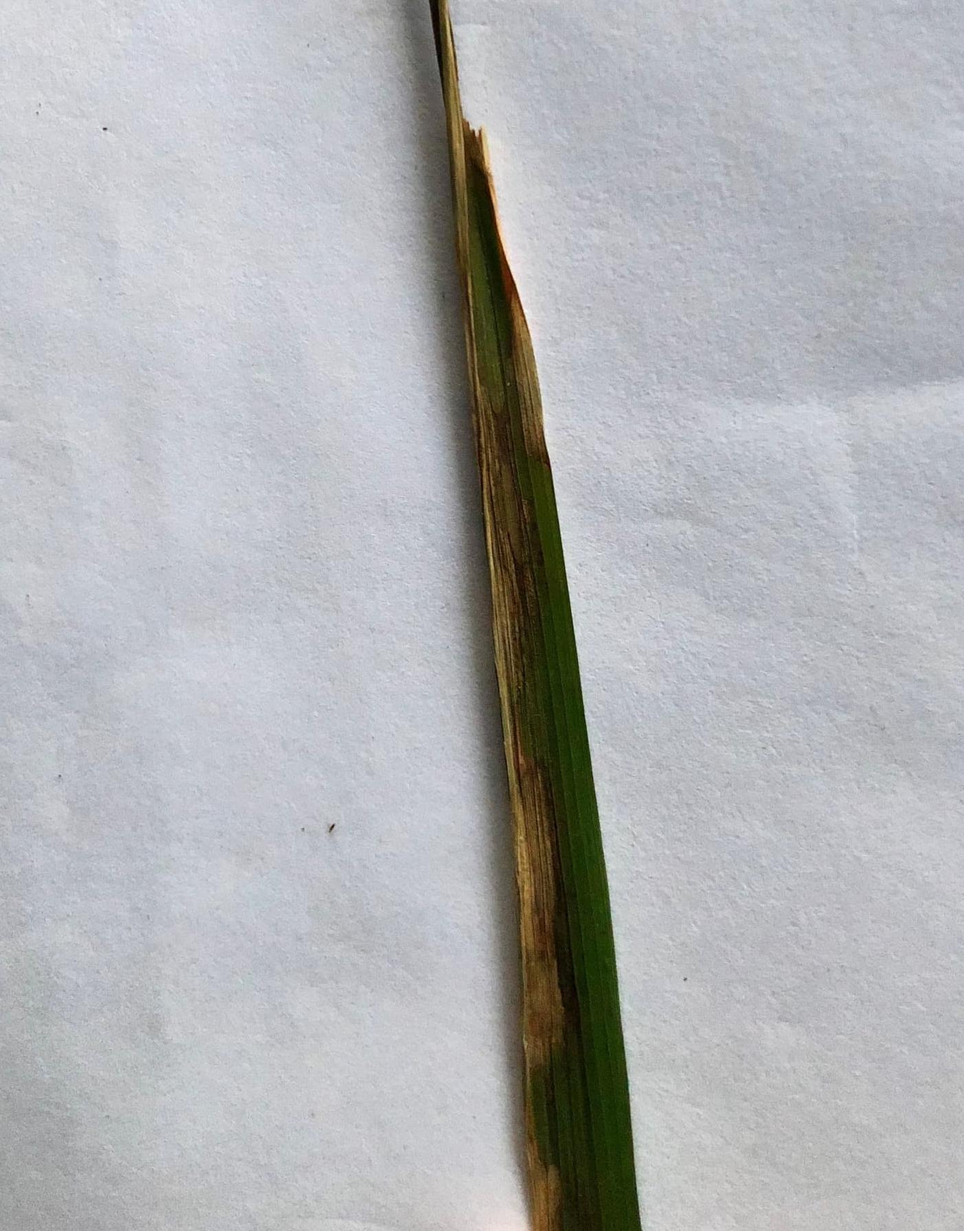Leaf Blight: (504, 698, 572, 1074), (473, 290, 548, 470), (486, 473, 539, 718), (440, 47, 499, 251), (506, 1058, 552, 1156), (516, 1140, 564, 1231)
